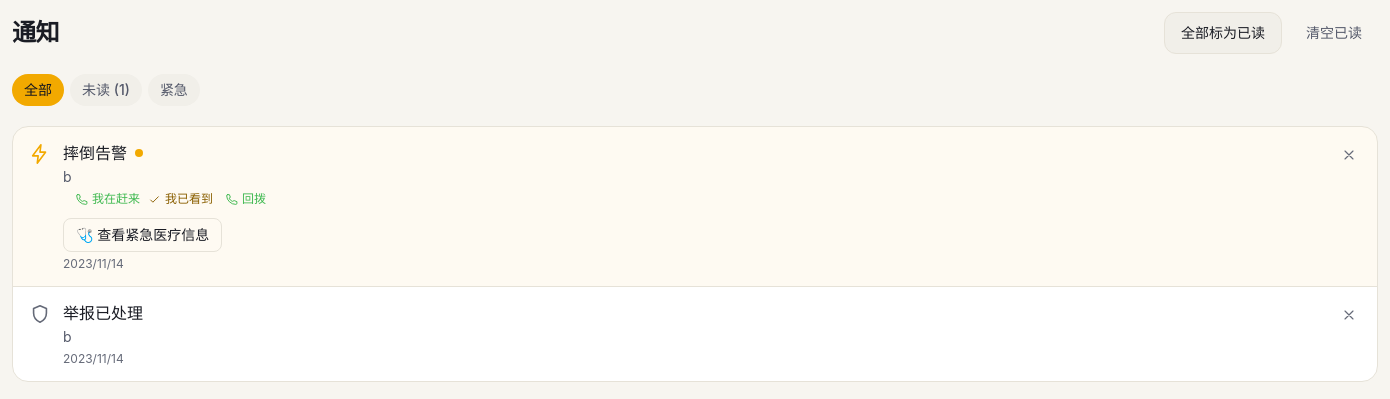
it: NotificationsPage 渲染（防字段漂移） › 筛选 全部/未读/紧急 切换过滤列表
The width and height of the screenshot is (1390, 399).
Expected: the text "摔倒告警" is shown, [63,141,127,165]
Expected: the text "举报已处理" is shown, [63,300,143,324]
# 未读 → 只剩未读的摔倒告警。
Click the button "未读 (1)" at (106, 90), box [70,74,142,106]
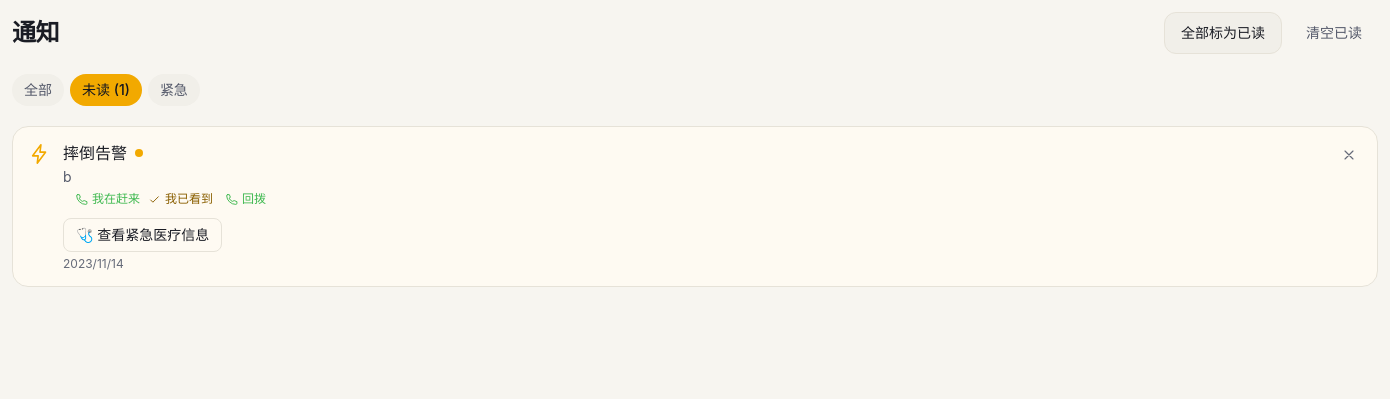
Expected: the text "摔倒告警" is shown, [63,141,127,165]
Expected: the button "举报已处理" is gone
# 紧急 → 只剩 emergency_alert。
Click the button "紧急" at (174, 90), box [148,74,200,106]
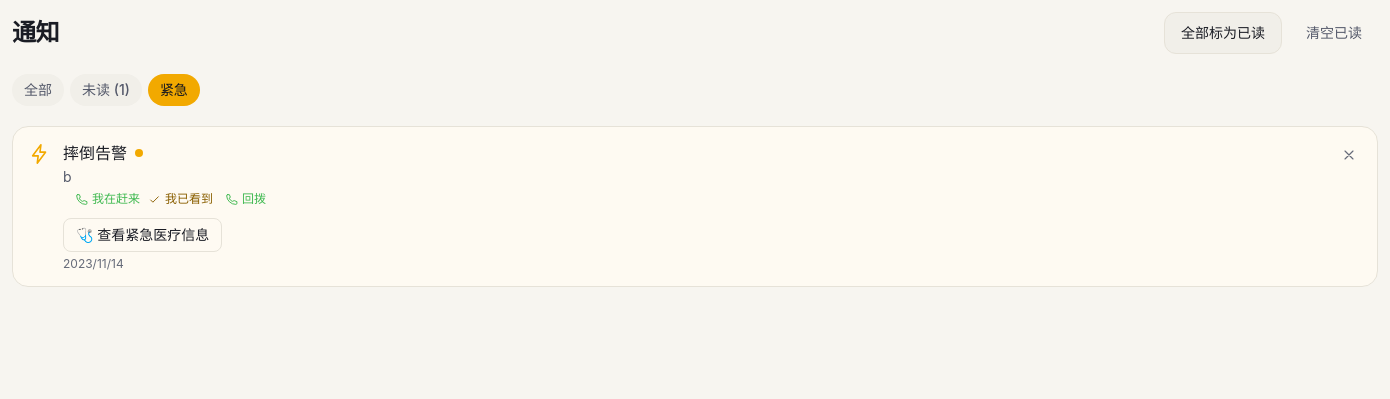
Expected: the text "摔倒告警" is shown, [63,141,127,165]
Expected: the button "举报已处理" is not shown
# 全部 → 恢复两条（用精确名，避免撞上"全部标为已读"按钮）。
Click the button "全部" at (38, 90), box [12,74,64,106]
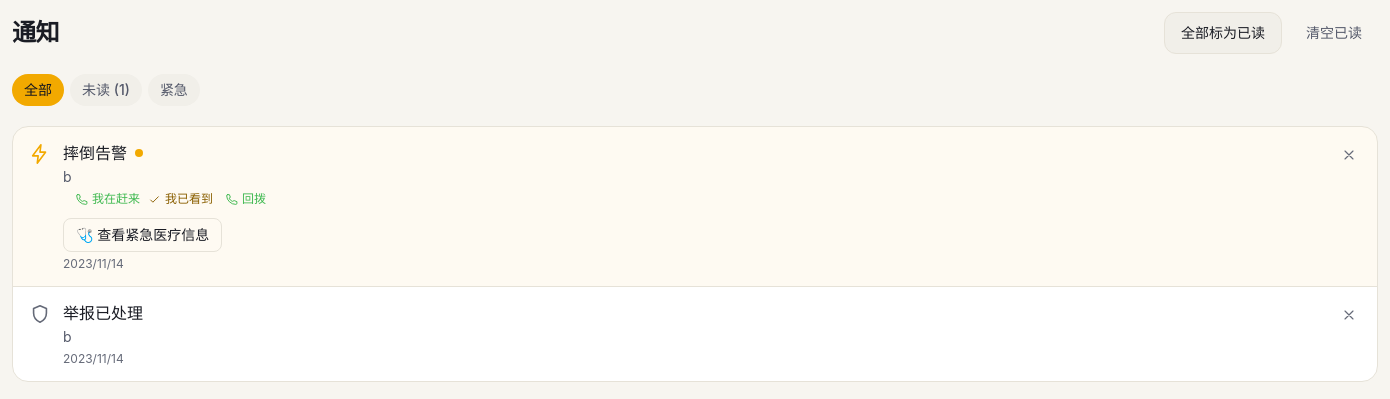
Expected: the text "举报已处理" is shown, [63,300,143,324]
